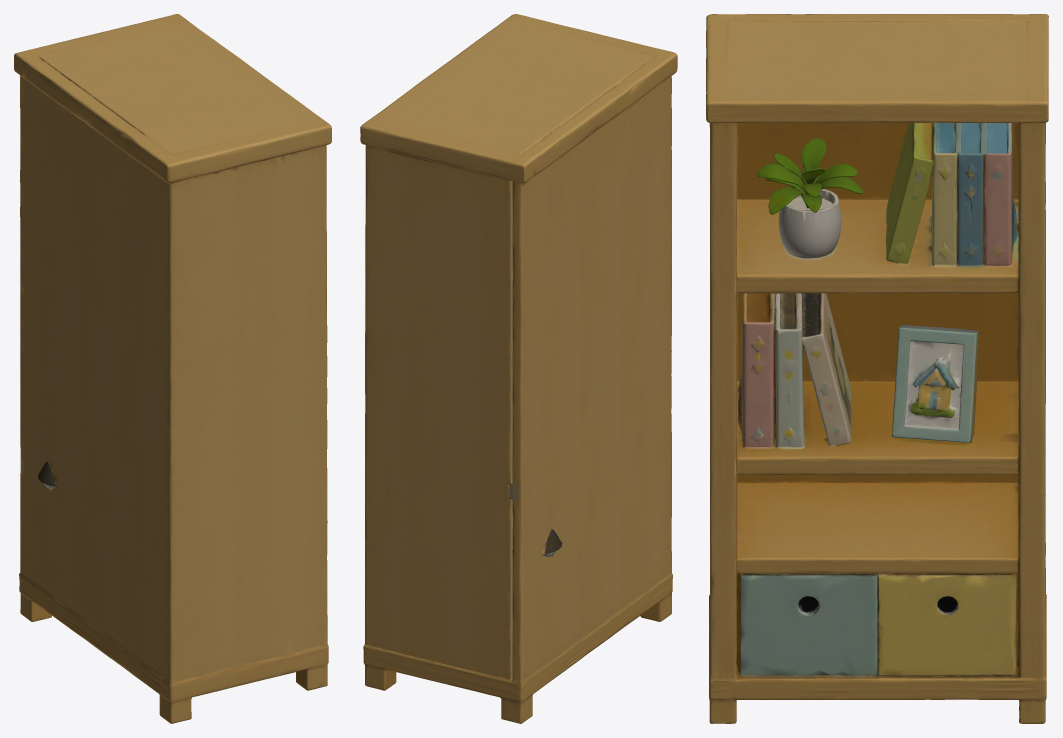
Rendered from DefaultBooksShelf.fbx.
3 renders of one model, left to right at view 1: azimuth 30°, elevation 25°; view 2: azimuth 150°, elevation 25°; view 3: azimuth 270°, elevation 25°, orthographic. The views are drawn at different scales.
Parts seen in each view (by area): view 1: tripo_node_948ac0a9; view 2: tripo_node_948ac0a9; view 3: tripo_node_948ac0a9.
Boxes of the visible parts, x1,y1,x2,y2 form: tripo_node_948ac0a9: [14, 14, 331, 723]; tripo_node_948ac0a9: [360, 14, 677, 723]; tripo_node_948ac0a9: [706, 14, 1048, 723].
Size of the model in its own units: 0.3073 by 0.9787 by 0.4872.
